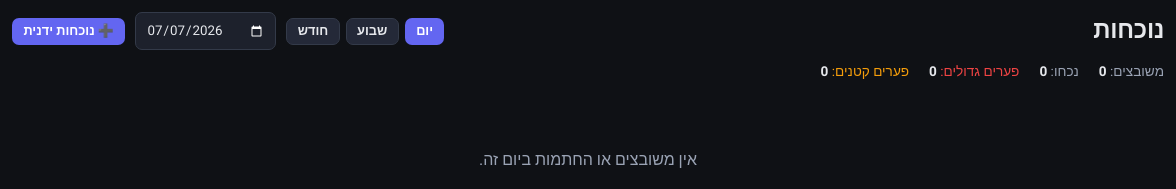
Test: AttendancePage — week/month summary list › switching to week shows labeled columns and a week period picker
Check: the text "אין משובצים או החתמות ביום זה." is shown, box [479, 148, 697, 172]
Click the button "שבוע" at [372, 31], box [346, 18, 399, 45]
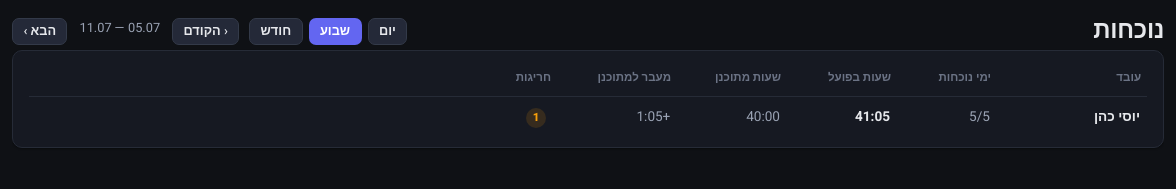
Check: the text "יוסי כהן" is shown, box [1094, 107, 1140, 127]
Check: the text "שעות בפועל" is shown, box [828, 69, 891, 86]
Check: the text "שעות מתוכנן" is shown, box [715, 69, 781, 86]
